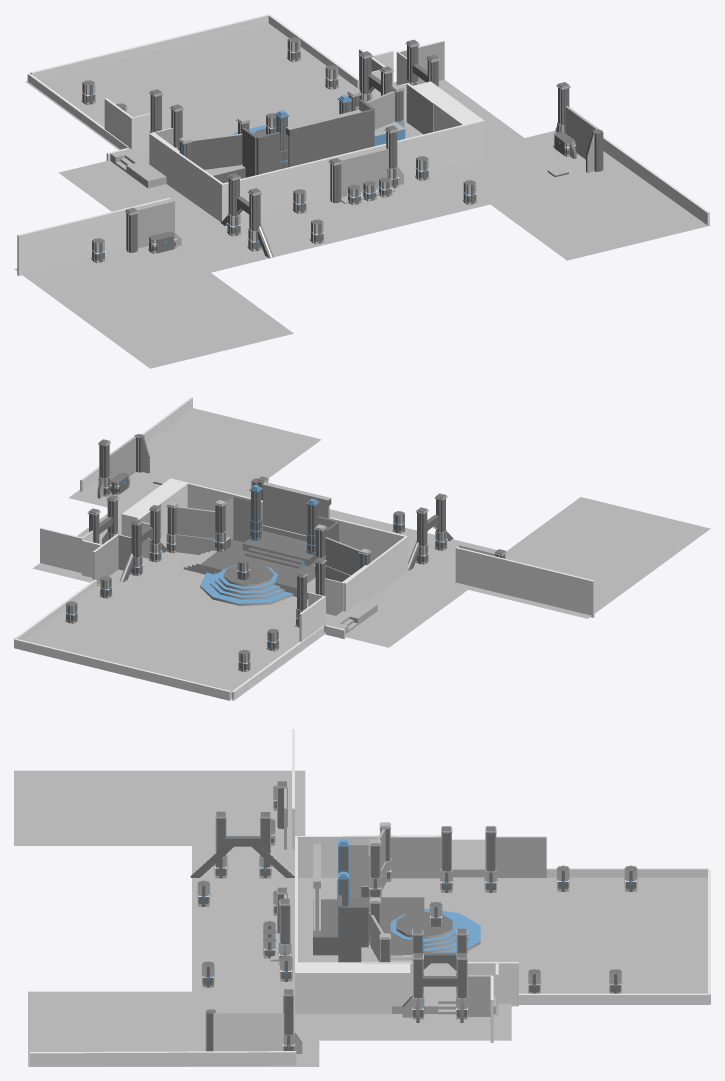
Rendered from set design.glb.
The picture shows the model from 3 angles, top to bottom: view 1: azimuth 30°, elevation 25°; view 2: azimuth 150°, elevation 25°; view 3: azimuth 270°, elevation 25°; orthographic projection. The views are drawn at different scales.
Parts seen in each view (by area): view 1: Plane007, Plane009, Plane003, Plane002, Box415, Box022, Plane008, Box452, Box125, Box038, Box059, Box033 (+17 smaller); view 2: Plane007, Plane009, Plane003, Box022, Plane008, Box415, Box059, Plane002, Box452, Box143, Box125, Box038 (+19 smaller); view 3: Plane007, Plane009, Plane003, Plane002, Box038, Plane006, Box033, Box439, Box058, Box340, Box355, Box452 (+10 smaller).
Boxes of the visible parts, left/top/right/bottom form: Plane007: left=25, top=23, right=420, bottom=223; Plane009: left=14, top=246, right=293, bottom=368; Plane003: left=443, top=130, right=710, bottom=260; Plane002: left=172, top=169, right=489, bottom=273; Box415: left=221, top=120, right=480, bottom=221; Box022: left=17, top=197, right=170, bottom=275; Plane008: left=58, top=161, right=221, bottom=232; Box452: left=149, top=133, right=223, bottom=221; Box125: left=288, top=119, right=361, bottom=167; Box038: left=413, top=81, right=484, bottom=163; Box059: left=30, top=14, right=268, bottom=79; Box033: left=603, top=136, right=709, bottom=225; Plane007: left=24, top=538, right=335, bottom=699; Plane009: left=457, top=497, right=710, bottom=618; Plane003: left=69, top=408, right=321, bottom=511; Box022: left=455, top=547, right=594, bottom=617; Plane008: left=345, top=570, right=467, bottom=647; Box415: left=172, top=479, right=408, bottom=570; Box059: left=14, top=639, right=230, bottom=700; Plane002: left=242, top=490, right=509, bottom=584; Box452: left=344, top=536, right=407, bottom=611; Box143: left=200, top=539, right=315, bottom=596; Box125: left=263, top=490, right=329, bottom=535; Box038: left=121, top=478, right=187, bottom=537; Plane007: left=298, top=877, right=707, bottom=995; Plane009: left=14, top=770, right=305, bottom=845; Plane003: left=28, top=991, right=319, bottom=1066; Plane002: left=192, top=843, right=298, bottom=992; Box038: left=295, top=962, right=410, bottom=1013; Plane006: left=309, top=1004, right=511, bottom=1040; Box033: left=30, top=1051, right=296, bottom=1066; Box439: left=213, top=1012, right=283, bottom=1051; Box058: left=519, top=993, right=708, bottom=1004; Box340: left=390, top=836, right=441, bottom=878; Box355: left=496, top=836, right=546, bottom=877; Box452: left=295, top=835, right=441, bottom=877.
Size of the model in its own units: 301 by 38.75 by 299.
